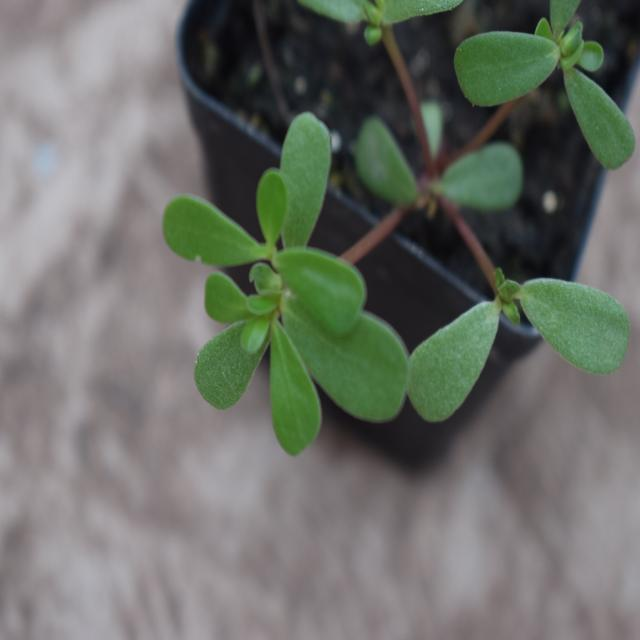purslane: (160, 113, 626, 456)
